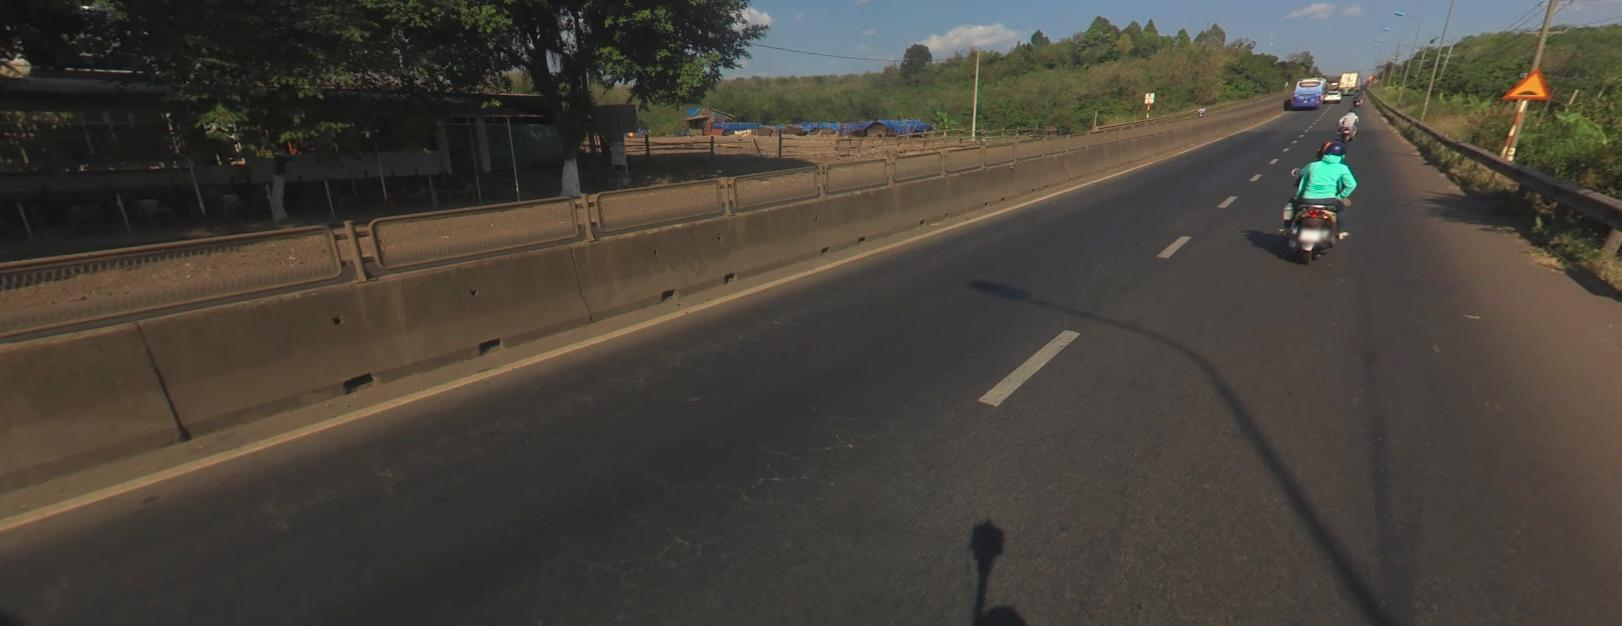Nguy hiem: (1502, 67, 1546, 98)
